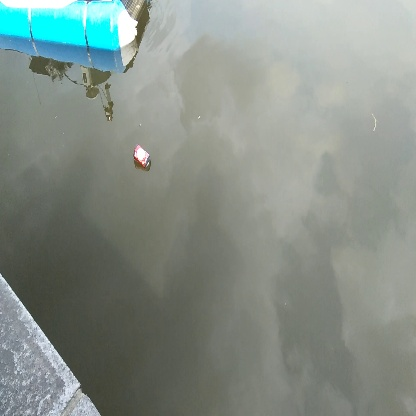bottle: (131, 144, 155, 172)
